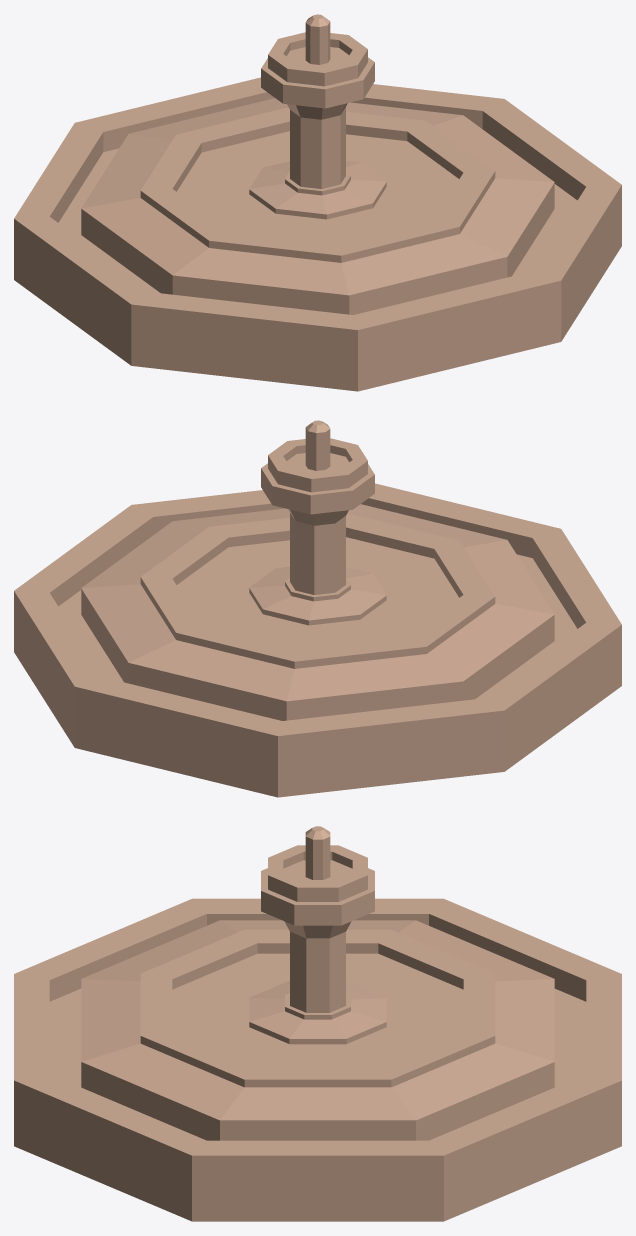
The model's file is fountain.glb.
3 views of the same model, one above another, from view 1: azimuth 30°, elevation 25°; view 2: azimuth 150°, elevation 25°; view 3: azimuth 270°, elevation 25° (orthographic). The views are drawn at different scales.
Parts seen in each view (by area): view 1: Fountain; view 2: Fountain; view 3: Fountain.
Part boxes in pixels (x1,y1,x2,y2): Fountain: (14,14,621,391); Fountain: (14,420,621,797); Fountain: (14,826,621,1221).
Size of the model in its own units: 4.88 by 2.34 by 4.88.
